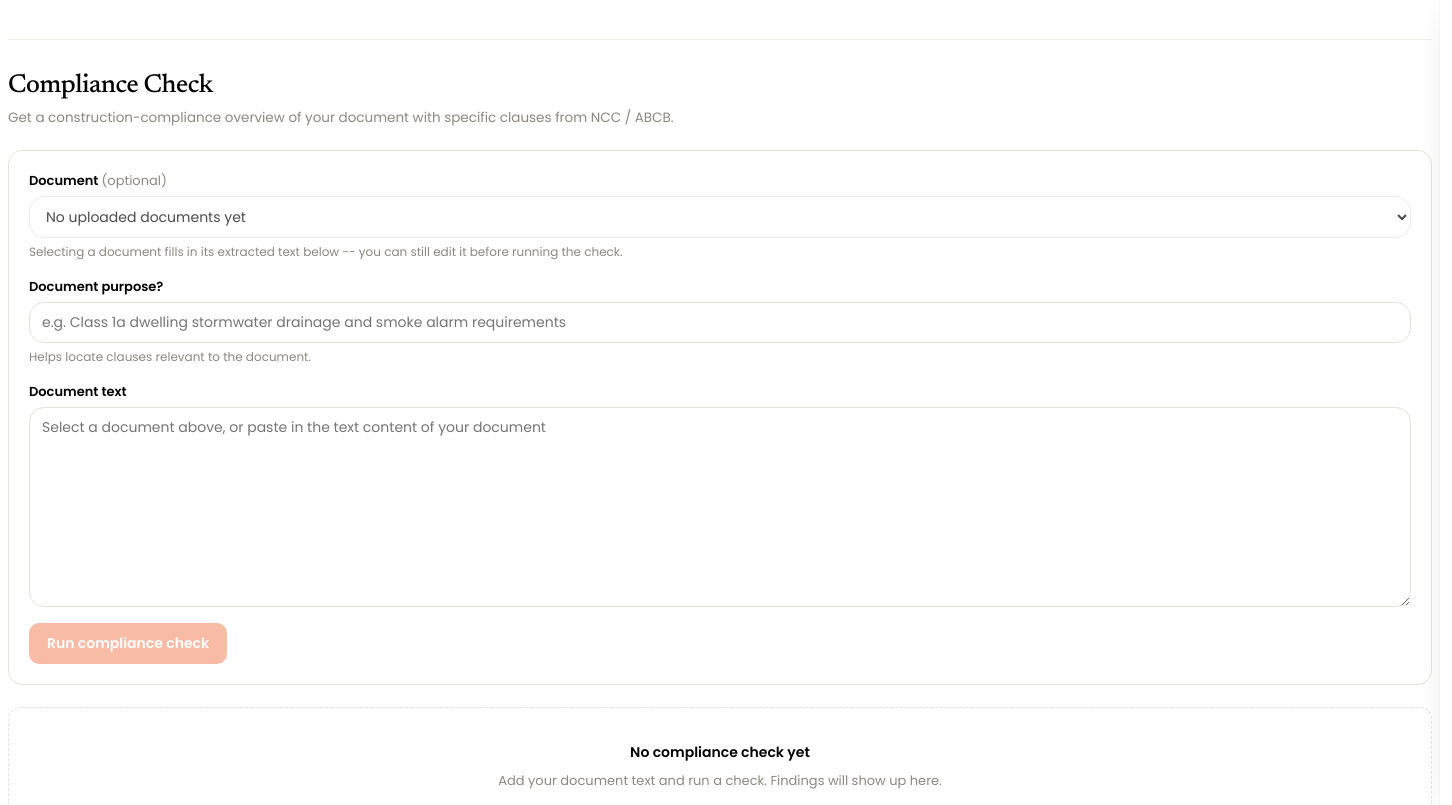
ComplianceCheck — running a check › sends the trimmed text, trimmed purpose and the jurisdiction to the backend
Replace the text in the field labelled "Document purpose?" with "  footing requirements  " at point(720, 322), box [29, 302, 1411, 343]
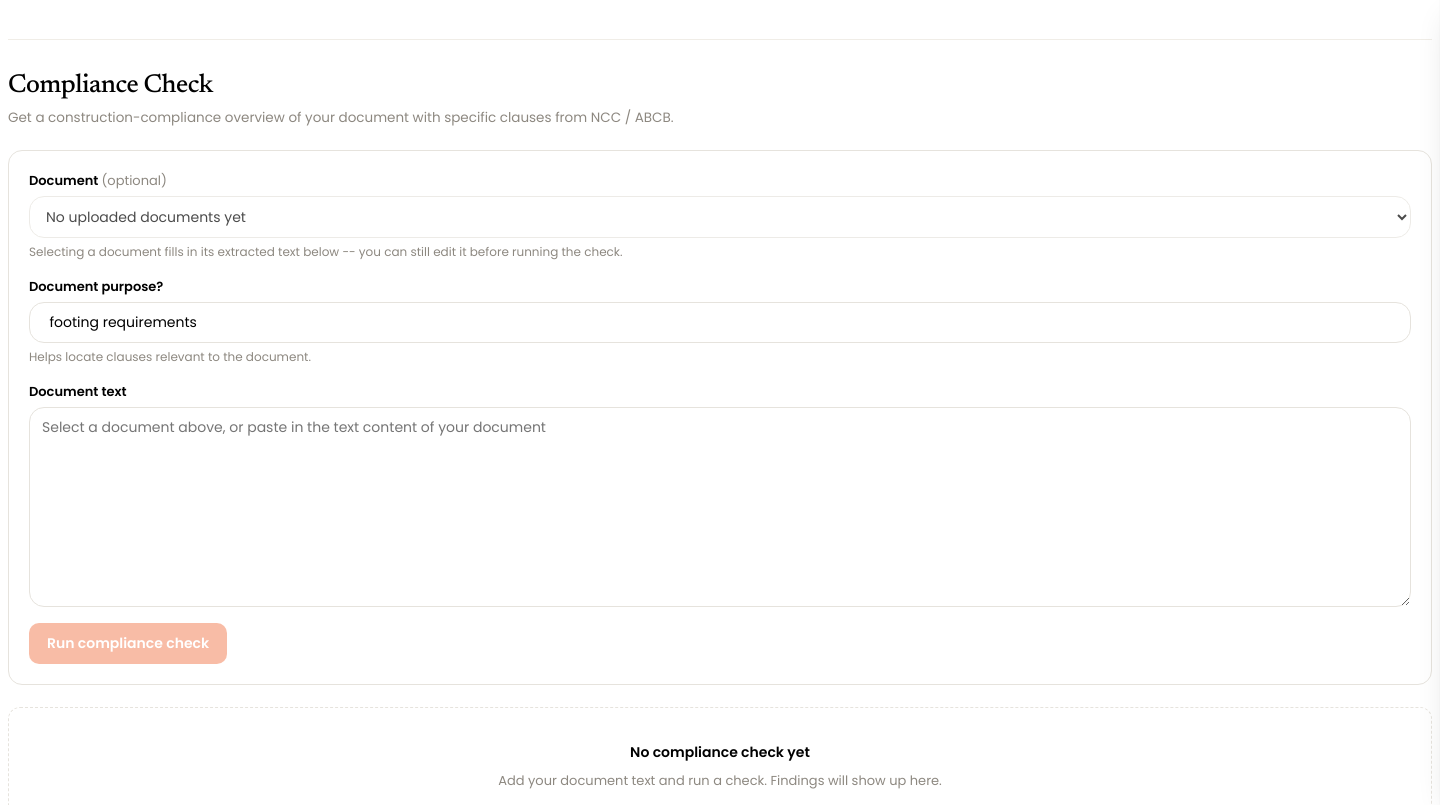
Replace the text in the text box labelled "Document text" with "  Footings: 600mm deep.  " at point(720, 507), box [29, 407, 1411, 607]
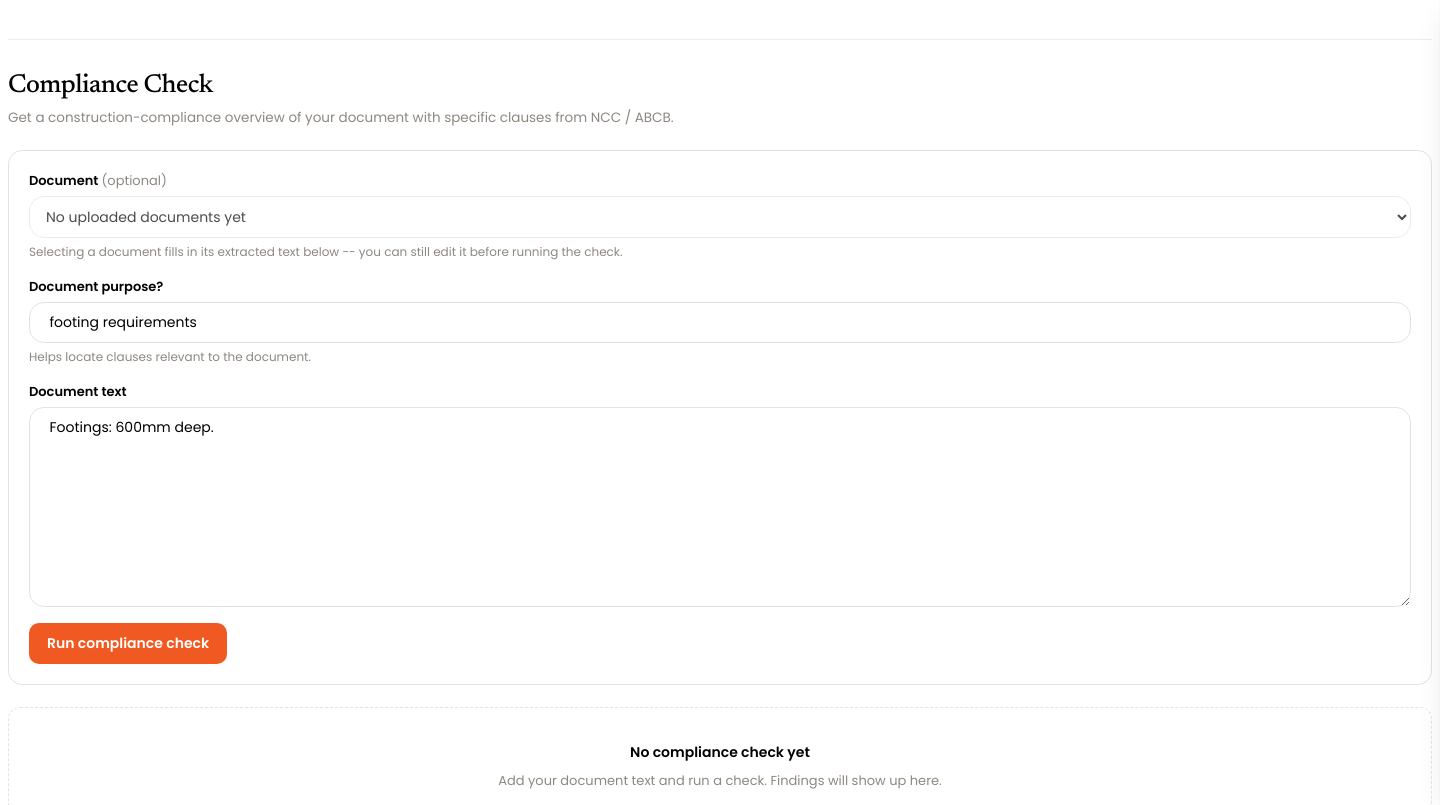
Click the button "Run compliance check".
click(128, 643)  # box [29, 623, 227, 664]
(page scrolled)
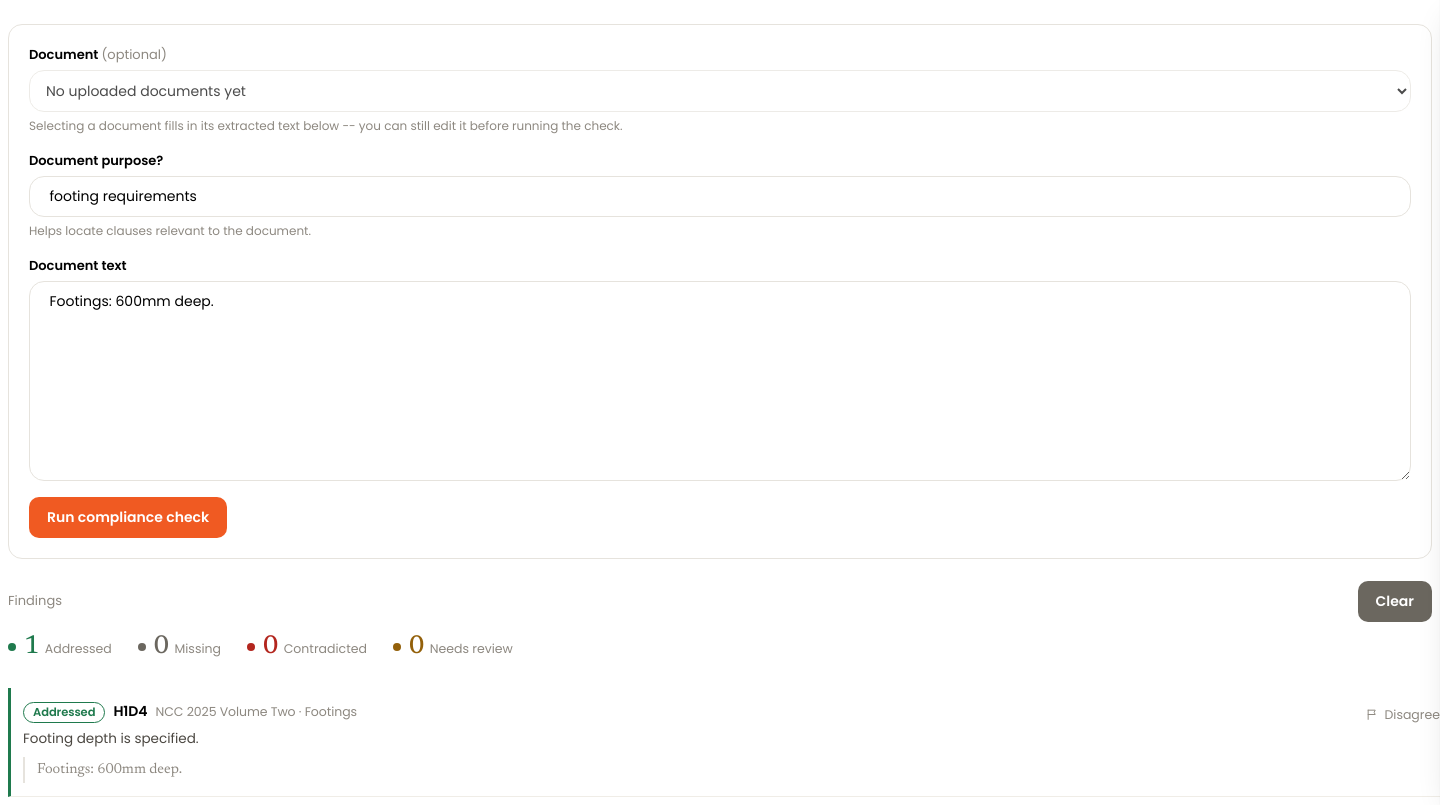
Expected: the text "Footing depth is specified." is shown, [23, 729, 199, 748]
